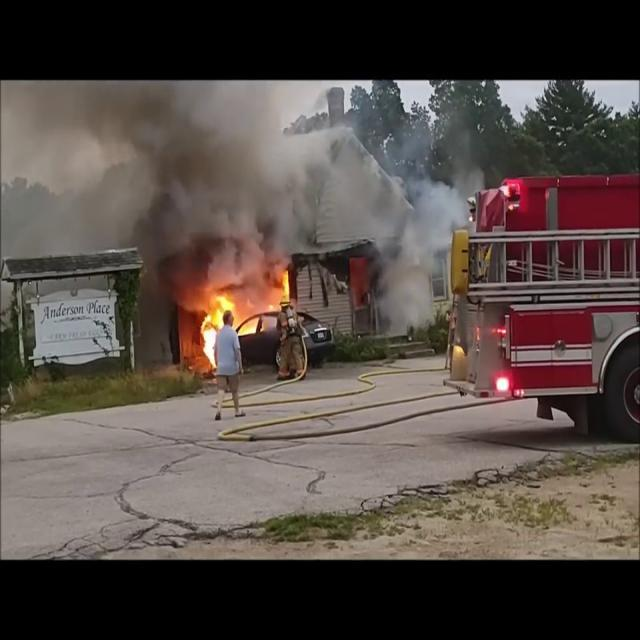Fire: (191, 287, 262, 365)
Smoke: (51, 80, 327, 270), (352, 128, 478, 330)
